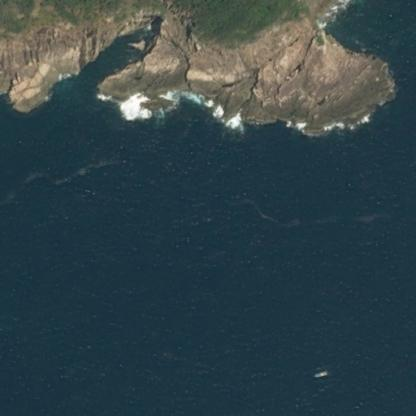ship: (309, 364, 332, 382)
